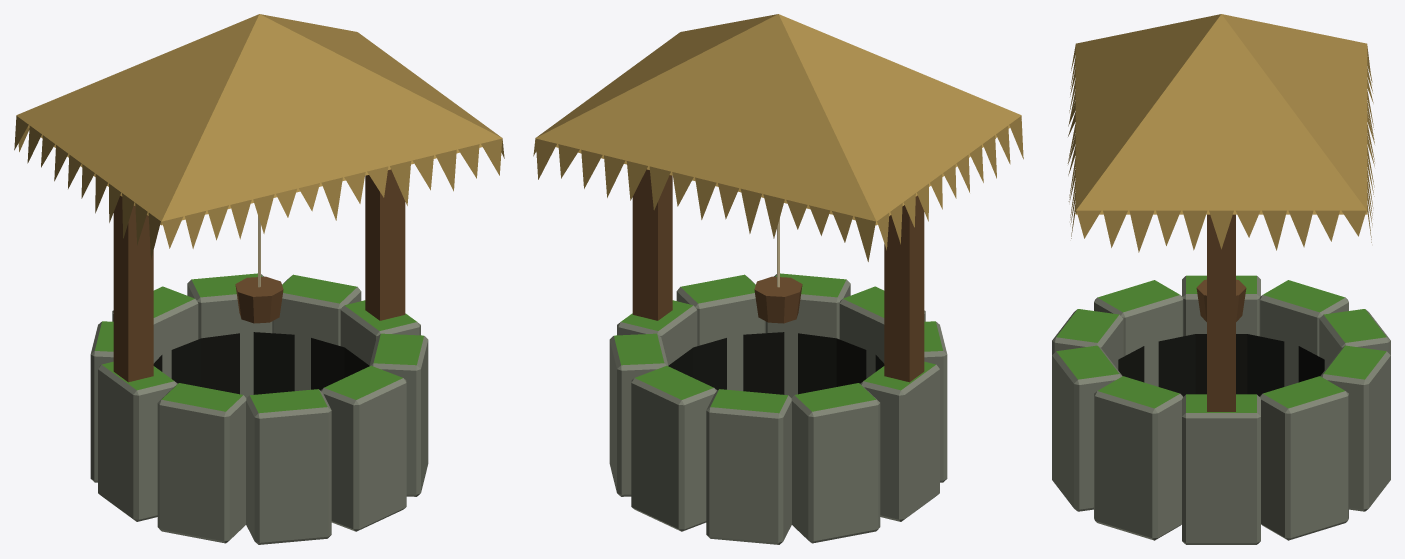
Rendered from Ruin_Well.fbx.
3 views of the same model, side by side, from view 1: azimuth 30°, elevation 25°; view 2: azimuth 150°, elevation 25°; view 3: azimuth 270°, elevation 25° (orthographic).
Visible parts, largest first — view 1: Ruin_Well.001; view 2: Ruin_Well.001; view 3: Ruin_Well.001.
Boxes of the visible parts, left/top/right/bottom form: Ruin_Well.001: left=14, top=14, right=504, bottom=544; Ruin_Well.001: left=533, top=14, right=1023, bottom=544; Ruin_Well.001: left=1052, top=14, right=1390, bottom=544.
Bounding box in the file's own units: 1.98 × 2.45 × 1.63.
